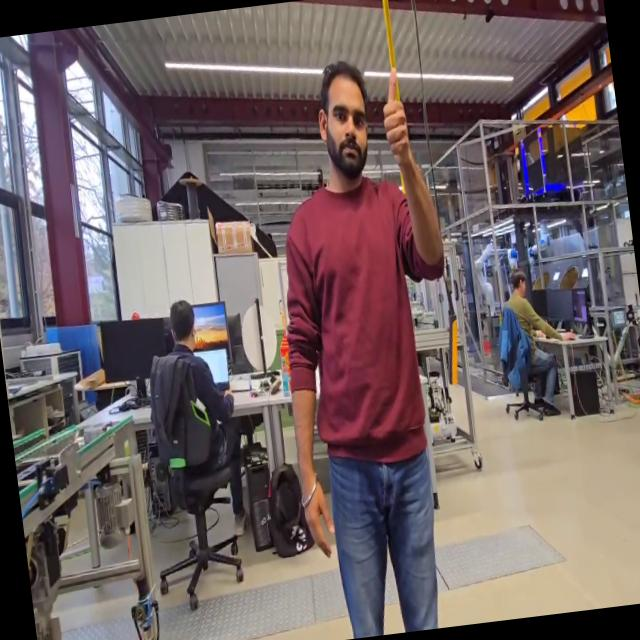thumbs_up: (372, 61, 417, 170)
